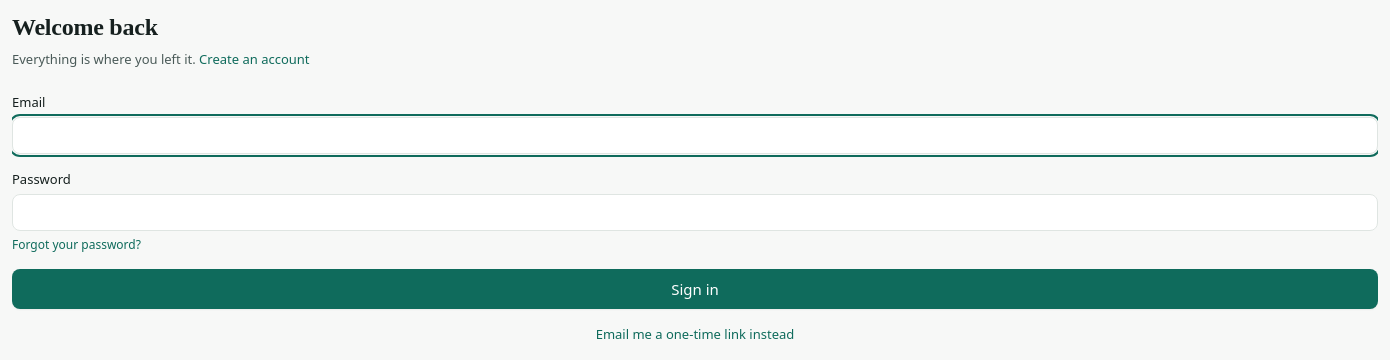
Test case: P0-06 Test B · the confirmation follows the server, not a timer › shows the confirmation with the submitted address once the endpoint answers 204
The width and height of the screenshot is (1390, 360).
Click the button "Email me a one-time link instead" at (695, 334), box [596, 325, 794, 343]
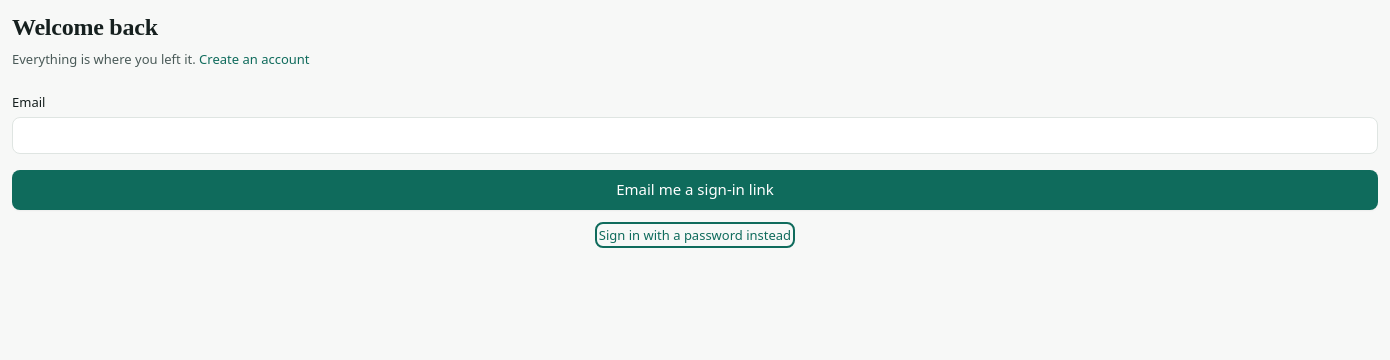
Type "  someone@example.test  " into the field labelled "Email" at (695, 135), box [12, 117, 1378, 154]
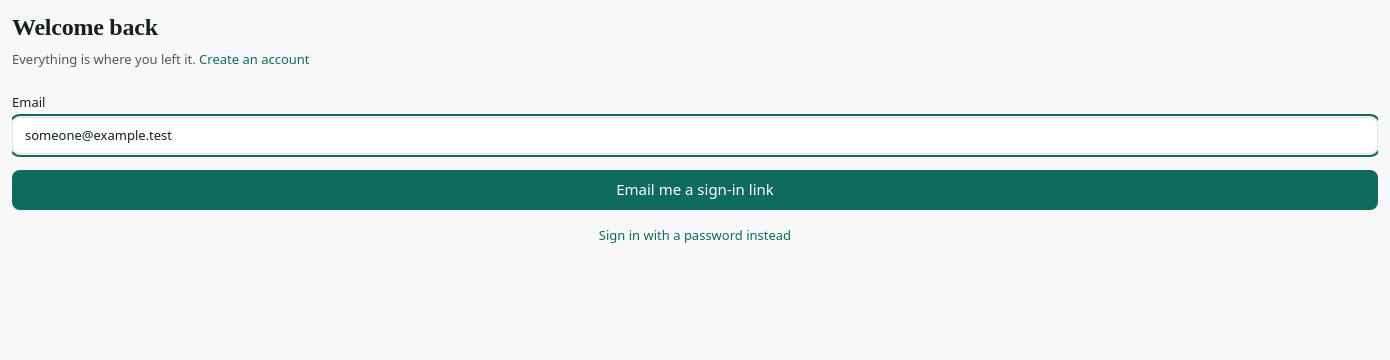
Click the button "Email me a sign-in link" at (695, 190), box [12, 170, 1378, 210]
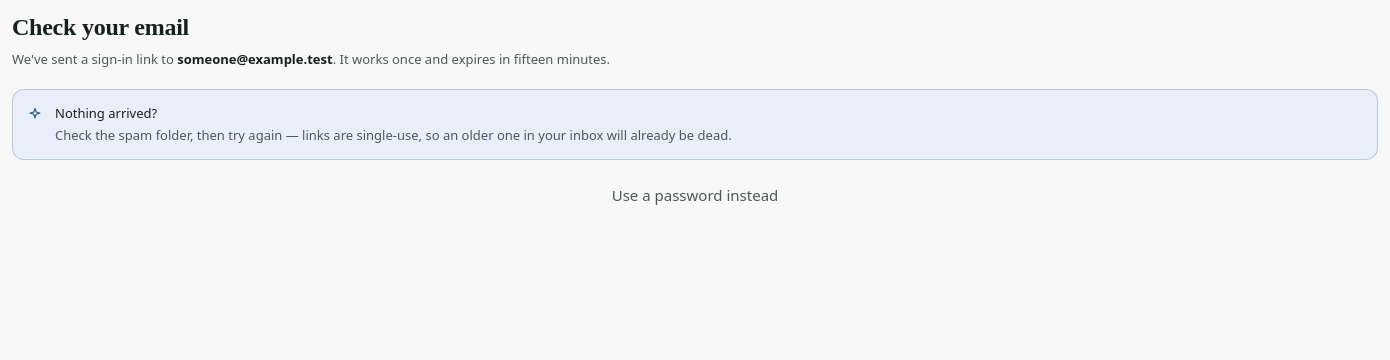
Result: the heading "Check your email" is shown at [12, 14, 189, 40]
Result: the text "someone@example.test" is shown at [177, 50, 333, 68]
